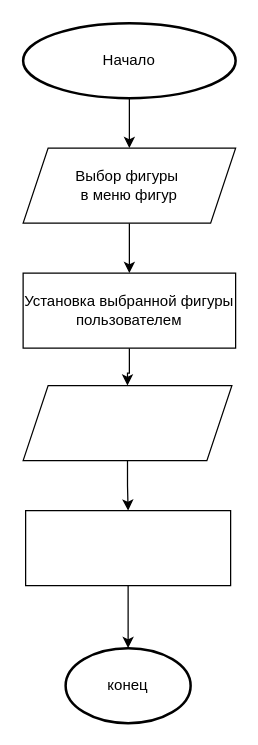
This 258x745 diagram has some shape labels left out. Each missing label, with the box of its shape:
Нажатие в любую точку рабочего пространства: (22, 384, 232, 461)
Появление выбранной фигуры в точке нажатия: (24, 509, 231, 586)
